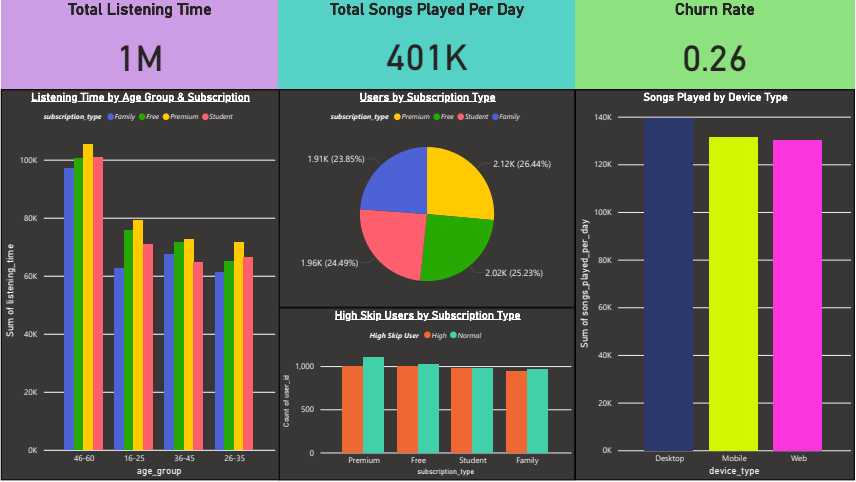

This screenshot's page, from the dashboard's own definition file:
{"tool":"powerbi","page":{"name":"Page 1","canvas":[1280,720],"ordinal":0},"visuals":[{"type":"card","title":"Total Listening Time","fields":{"Values":["Sum(public fact_user_activity.listening_time)"]},"box":[0,0,416.7,134.3],"z":0},{"type":"card","title":"Total Songs Played Per Day","fields":{"Values":["Sum(public fact_user_activity.songs_played_per_day)"]},"box":[416.7,0,444.1,134.3],"z":1000},{"type":"card","title":"Churn Rate ","fields":{"Values":["public dim_device.Churn Rate"]},"box":[860.8,0,419.2,134.3],"z":2000},{"type":"clusteredColumnChart","title":"Listening Time by Age Group & Subscription","fields":{"Category":["public dim_user.age_group"],"Y":["Sum(public fact_user_activity.listening_time)"],"Series":["public fact_user_activity.subscription_type"]},"box":[0,134.3,416.7,585.9],"z":3000},{"type":"columnChart","title":"Songs Played by Device Type","fields":{"Y":["Sum(public fact_user_activity.songs_played_per_day)"],"Category":["public dim_device.device_type"]},"box":[860.8,134.3,419.2,585.9],"z":4000},{"type":"clusteredColumnChart","title":"High Skip Users by Subscription Type","fields":{"Category":["public dim_subscription.subscription_type"],"Series":["public fact_user_activity.High Skip User"],"Y":["CountNonNull(public fact_user_activity.user_id)"]},"box":[416.7,461.5,444.1,258.7],"z":5000},{"type":"pieChart","title":"Users by Subscription Type","fields":{"Category":["public dim_subscription.subscription_type"],"Y":["CountNonNull(public fact_user_activity.user_id)"]},"box":[416.7,134.3,444.1,327.2],"z":6000}]}

Visuals, with their boxes in screenshot pixels (x1, y1, x2, y2), scaled from the page's 1280x720 canvas onto the 856x482 screenshot:
"Total Listening Time" card: <bbox>0, 0, 279, 90</bbox>
"Total Songs Played Per Day" card: <bbox>279, 0, 576, 90</bbox>
"Churn Rate " card: <bbox>576, 0, 855, 90</bbox>
"Listening Time by Age Group & Subscription" clusteredColumnChart: <bbox>0, 90, 279, 481</bbox>
"Songs Played by Device Type" columnChart: <bbox>576, 90, 855, 481</bbox>
"High Skip Users by Subscription Type" clusteredColumnChart: <bbox>279, 309, 576, 481</bbox>
"Users by Subscription Type" pieChart: <bbox>279, 90, 576, 309</bbox>
